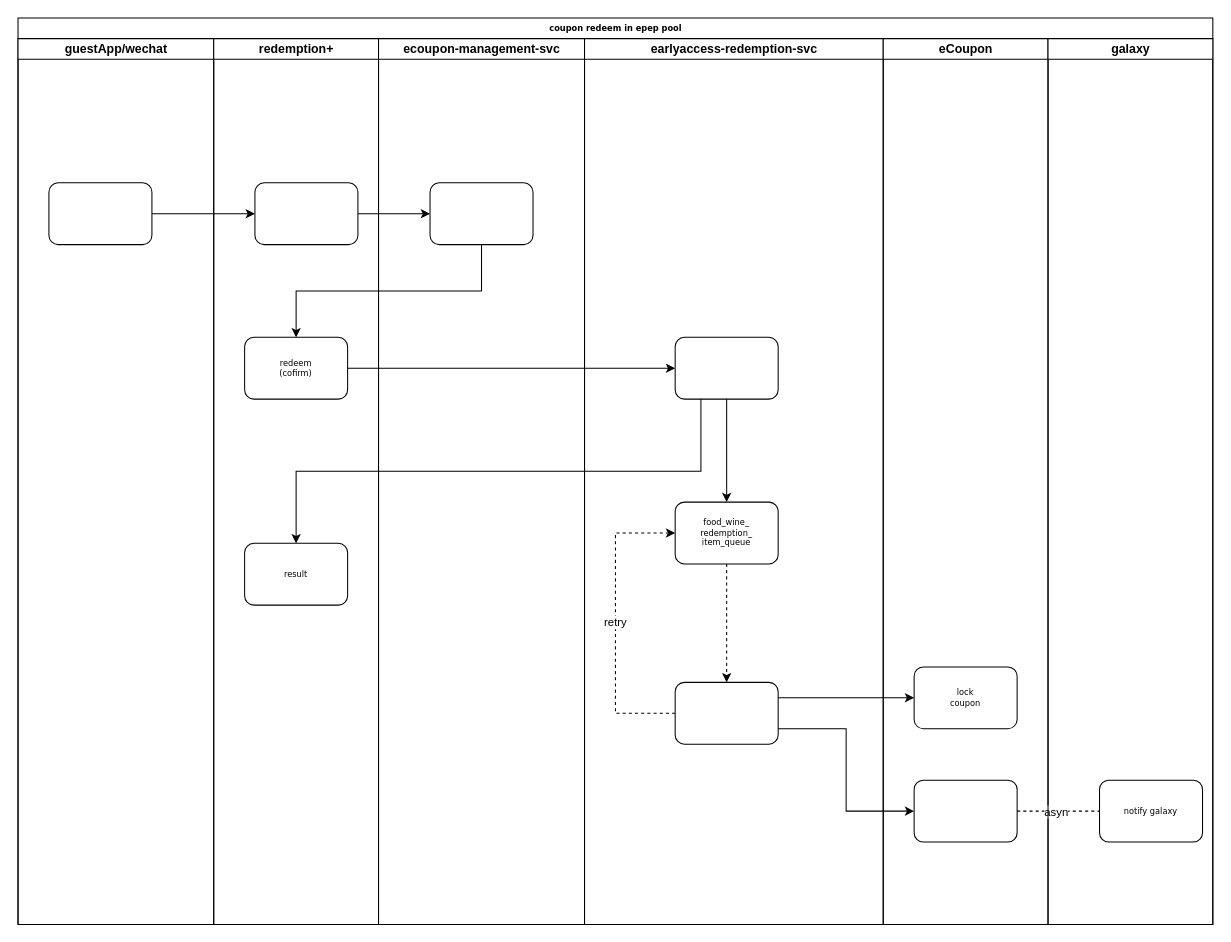
The diagram is 1231 pixels wide and 942 high, and some of its shapes have lost their labels. The shapes that lost their labels are listed below. From the top down, each one's centre as x and y in pixels, then its label:
At (x=100, y=213): "(ecoupon) show qrcode".
At (x=306, y=213): "redeem (scan)".
At (x=481, y=213): "coupon info".
At (x=726, y=367): "coupon redeem".
At (x=726, y=712): "asyc call eCoupon".
At (x=965, y=810): "use coupon".
